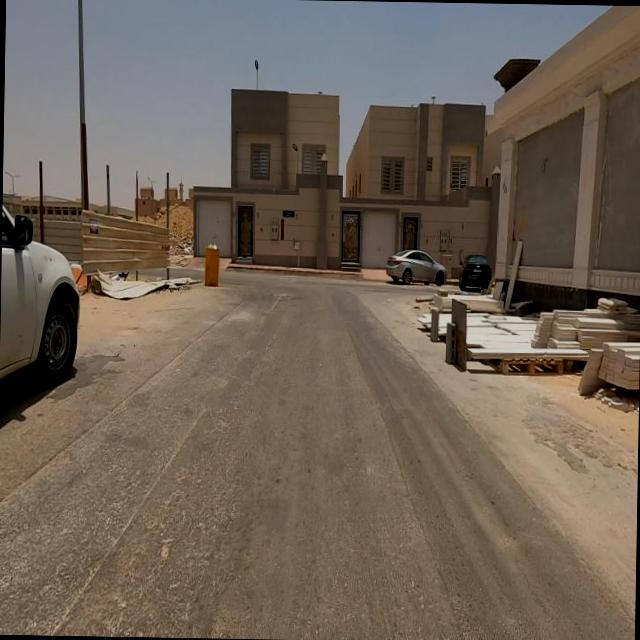debris: (130, 235, 221, 332), (68, 240, 165, 330), (192, 226, 235, 272)
